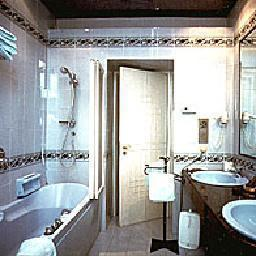Lavamanos: (221, 196, 255, 241), (187, 165, 253, 187)
Puerta: (118, 70, 169, 226)
